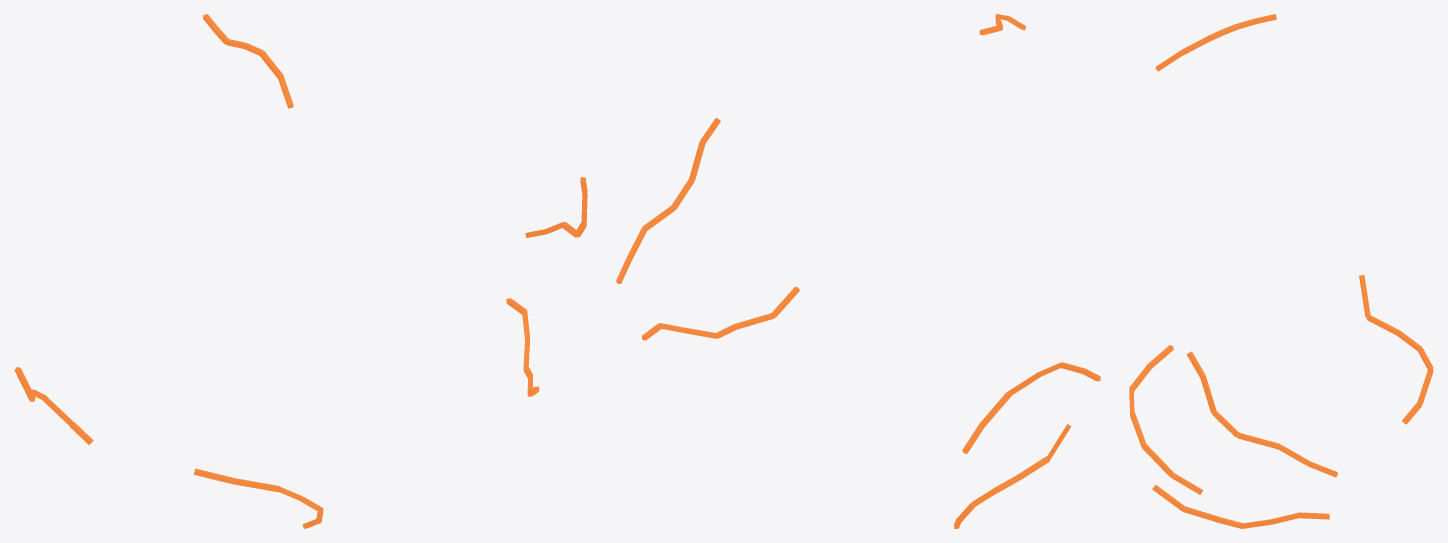
Rendered from globe_st_fractured_props.glb.
The picture shows the model from 3 angles, left to right: view 1: azimuth 30°, elevation 25°; view 2: azimuth 150°, elevation 25°; view 3: azimuth 270°, elevation 25°; orthographic projection. The views are drawn at different scales.
Size of the model in its own units: 1.92 by 1.81 by 1.1.
